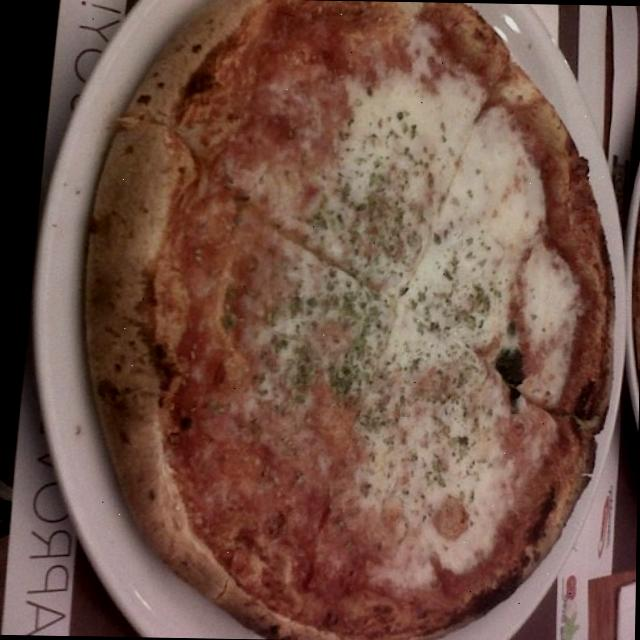basil: (344, 290, 380, 390), (370, 193, 410, 260), (304, 194, 340, 230), (470, 276, 495, 316), (218, 288, 238, 330), (296, 351, 316, 390), (455, 308, 482, 328), (436, 388, 464, 406), (289, 296, 302, 318), (304, 294, 318, 314)
cheese: (269, 138, 545, 511)
pizza: (84, 0, 612, 640)
